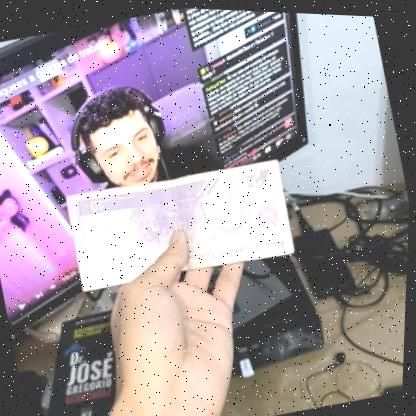vef_back: (64, 146, 301, 302)
